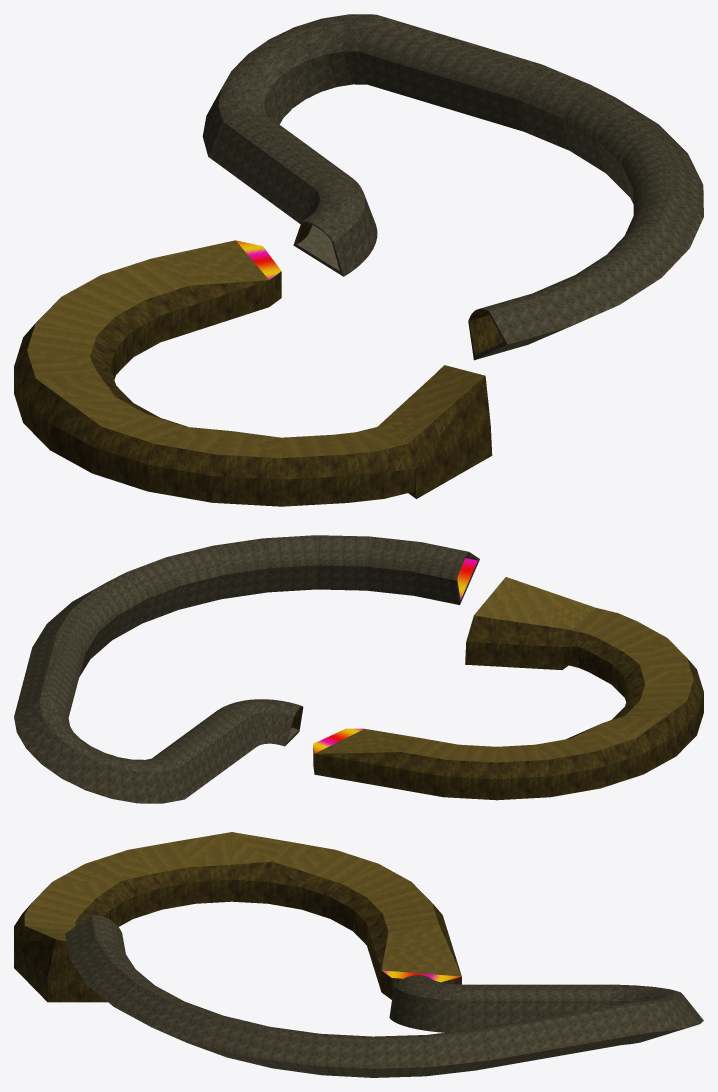
3 renders of one model, top to bottom at view 1: azimuth 30°, elevation 25°; view 2: azimuth 150°, elevation 25°; view 3: azimuth 270°, elevation 25°, orthographic. The views are drawn at different scales.
Visible parts, largest first — view 1: LvrV4_Main-kabe2.001, LvrV4_Main-kabe1.001, LvrV4_Main-road2.001, LvrV4_Main-road1.001; view 2: LvrV4_Main-kabe2.001, LvrV4_Main-kabe1.001, LvrV4_Main-road2.001, LvrV4_Main-dash.001; view 3: LvrV4_Main-kabe2.001, LvrV4_Main-road2.001, LvrV4_Main-kabe1.001.
Part boxes in pixels (left/top/right/bottom): LvrV4_Main-kabe2.001: left=202, top=14, right=703, bottom=360; LvrV4_Main-kabe1.001: left=14, top=222, right=503, bottom=506; LvrV4_Main-road2.001: left=27, top=240, right=485, bottom=458; LvrV4_Main-road1.001: left=297, top=225, right=339, bottom=270; LvrV4_Main-kabe2.001: left=14, top=535, right=479, bottom=803; LvrV4_Main-kabe1.001: left=291, top=553, right=703, bottom=800; LvrV4_Main-road2.001: left=315, top=577, right=693, bottom=762; LvrV4_Main-dash.001: left=313, top=558, right=477, bottom=753; LvrV4_Main-kabe2.001: left=65, top=915, right=703, bottom=1077; LvrV4_Main-road2.001: left=24, top=832, right=461, bottom=976; LvrV4_Main-kabe1.001: left=14, top=861, right=461, bottom=1002.
Size of what is drawn, in the model's own units: 44235 by 7510 by 46638.
7 materials, 6 textured.
